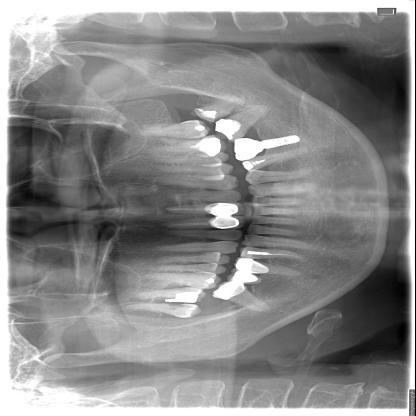ITI: (262, 130, 306, 152)
